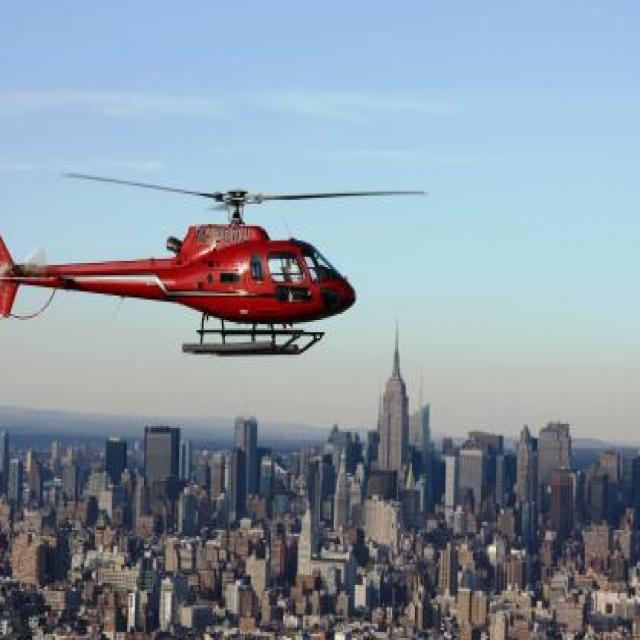helicopter: (1, 148, 433, 362)
